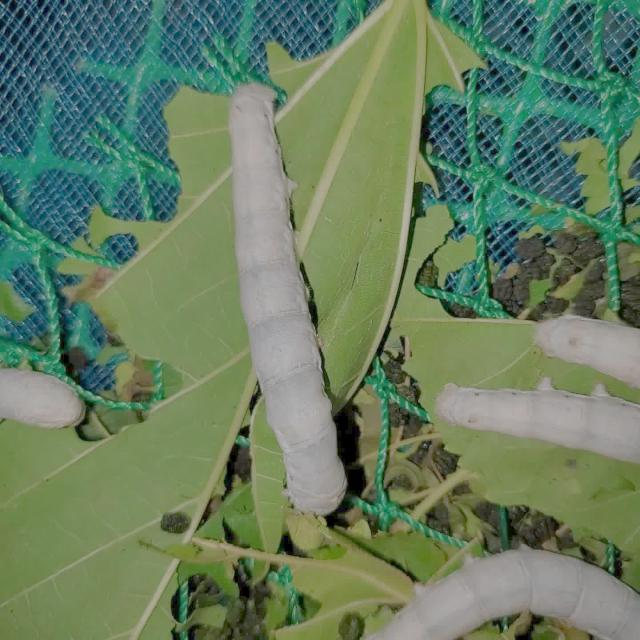Healthy: (214, 73, 359, 517)
